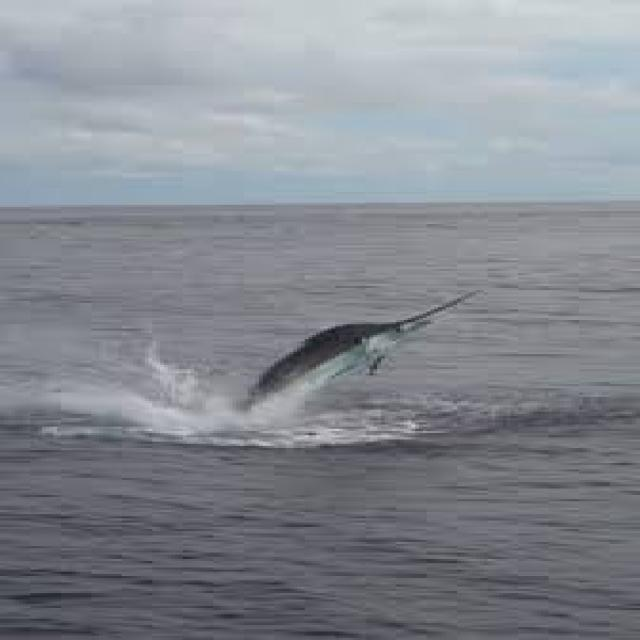Blue Marlin: (232, 286, 484, 418)
